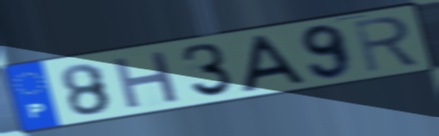3: (180, 42, 237, 99)
8: (59, 62, 114, 118)
9: (296, 22, 354, 82)
A: (239, 32, 311, 95)
H: (110, 48, 182, 112)
R: (350, 13, 423, 75)
